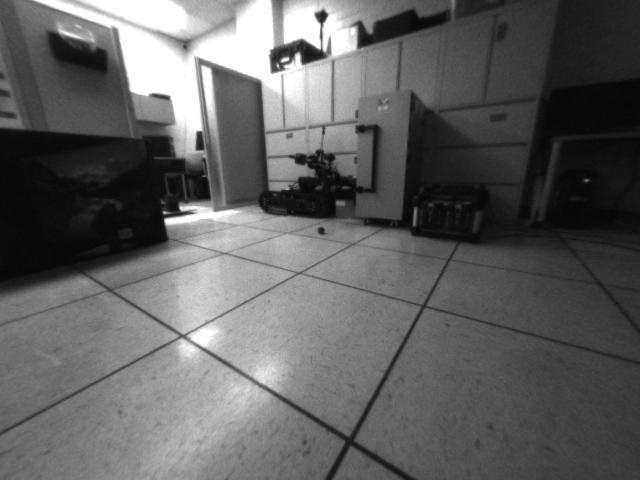dogtoy: (313, 222, 331, 238)
